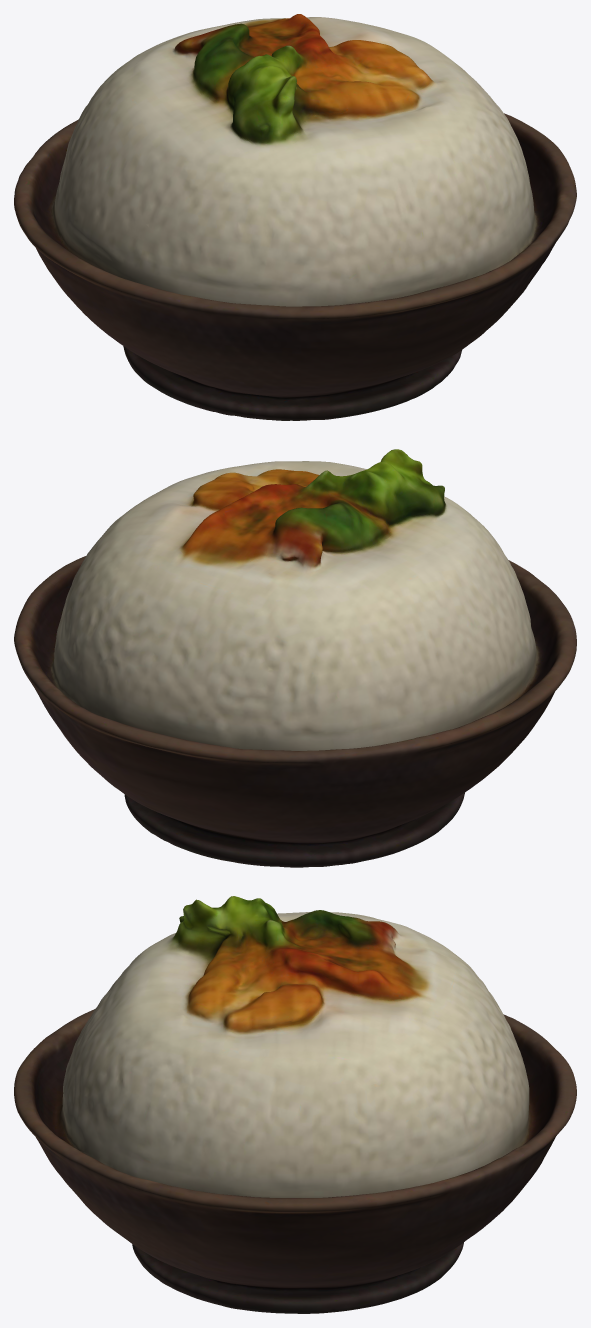
File: chickenrice.glb
The picture shows the model from 3 angles, top to bottom: view 1: azimuth 30°, elevation 25°; view 2: azimuth 150°, elevation 25°; view 3: azimuth 270°, elevation 25°; orthographic projection.
Parts seen in each view (by area): view 1: high_poly; view 2: high_poly; view 3: high_poly.
Boxes of the visible parts, x1,y1,x2,y2 form: high_poly: (14, 14, 576, 420); high_poly: (14, 449, 576, 867); high_poly: (14, 896, 576, 1313).
Bounding box in the file's own units: 0.998 × 0.6305 × 1.
1 material, 1 textured.
